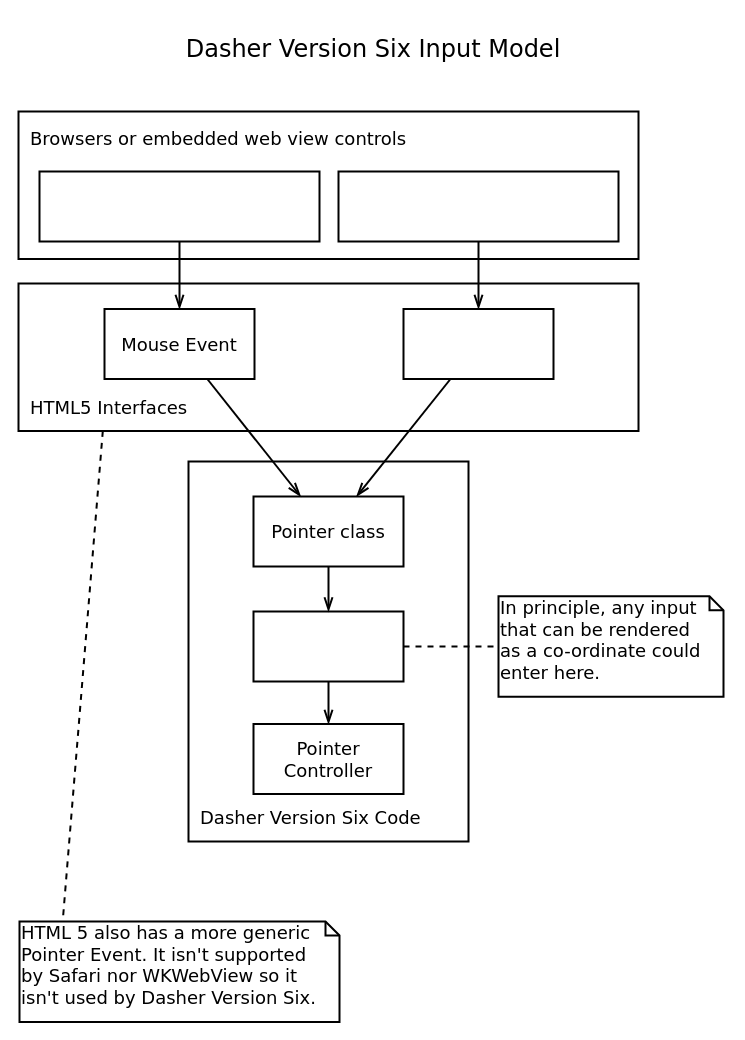
The diagram is 745 pixels wide and 1040 high, and some of its shapes have lost their labels. Each missing label, with the centre of its shape:
Co-ordinates (x, y): point 328,646
Pointer Input (Mouse, trackball, or other.): point 179,206
Touch Event: point 478,344
Touch Screen Input: point 478,206
